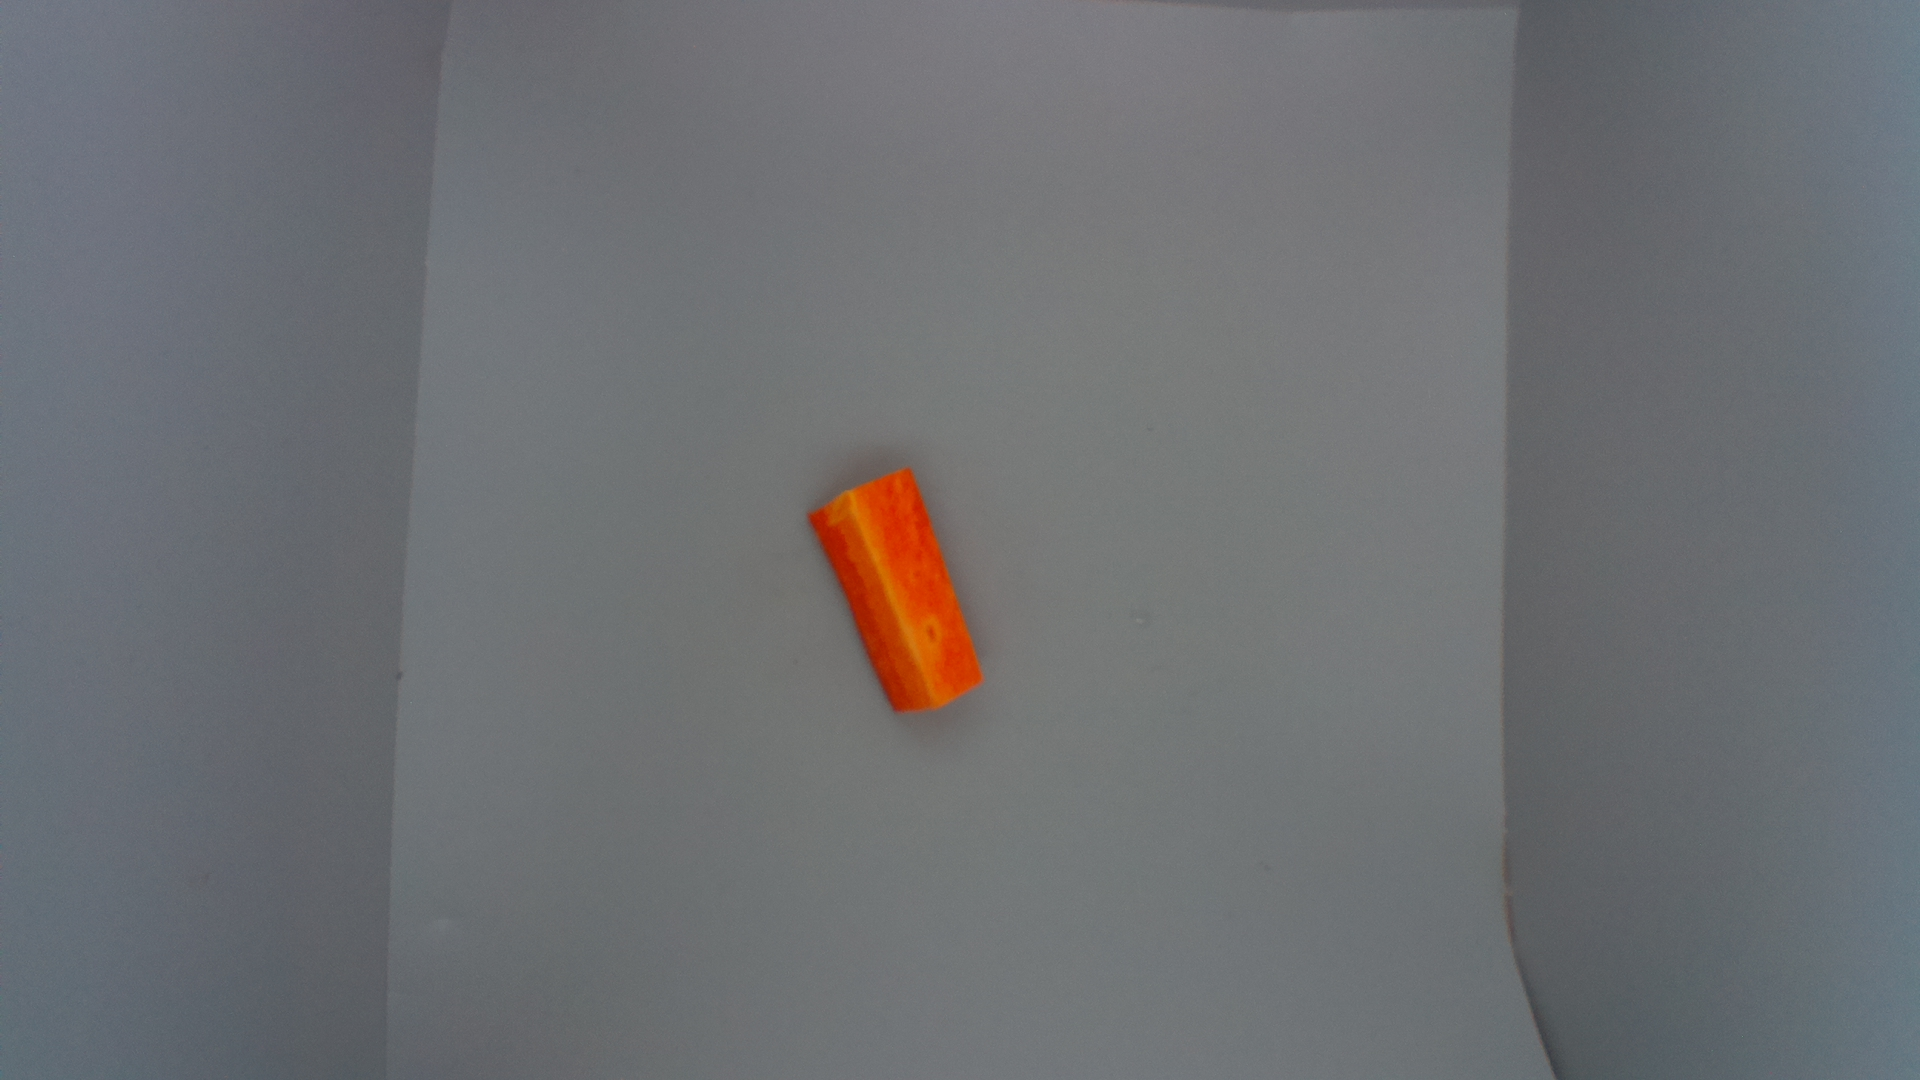carrot: (808, 463, 989, 716)
